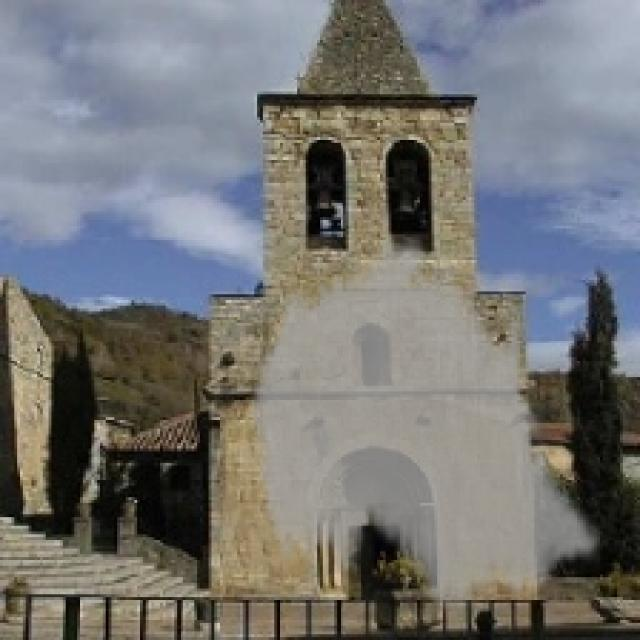smoke: (246, 225, 603, 626)
